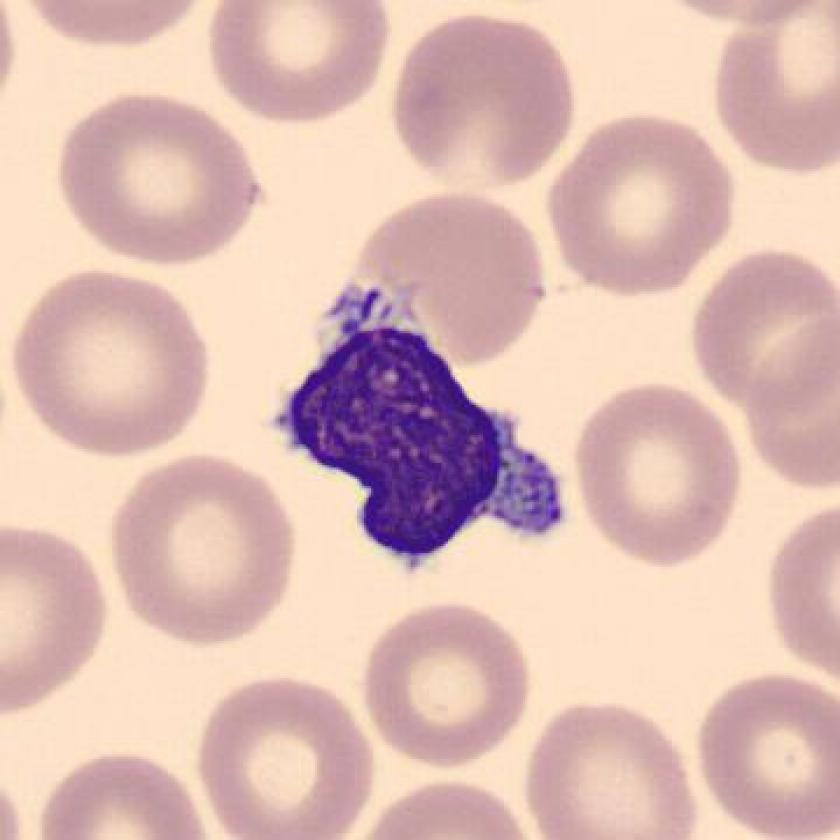lymphocyte: (265, 263, 582, 587)
